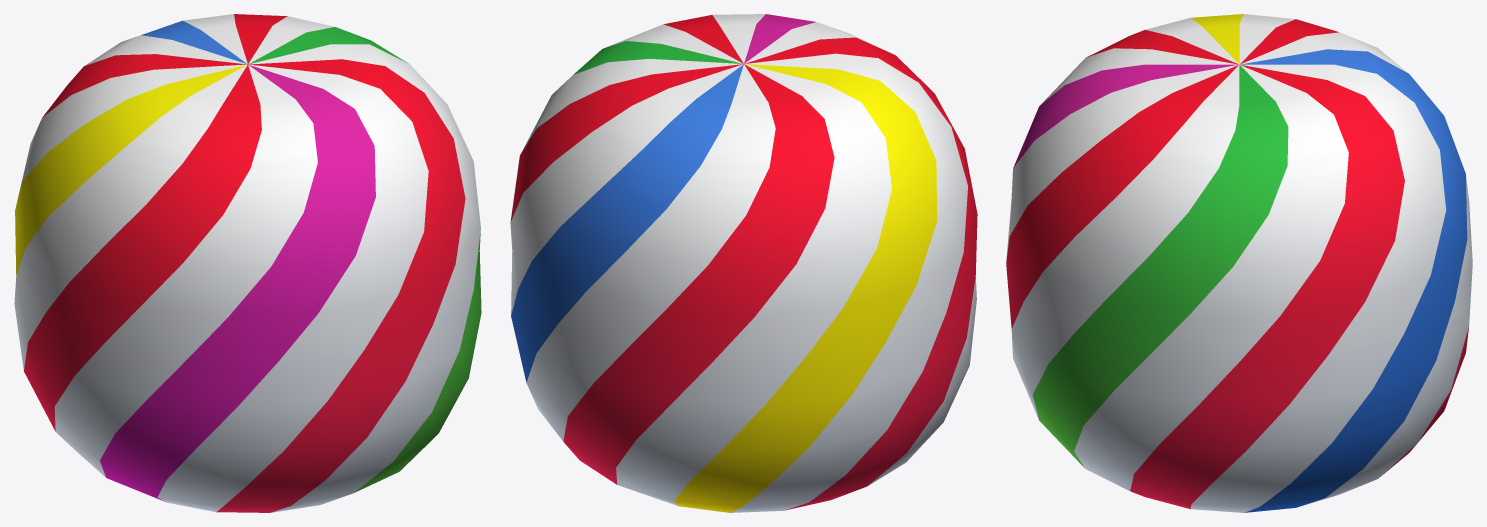
The model's file is lollipop_004.glb.
3 renders of one model, left to right at view 1: azimuth 30°, elevation 25°; view 2: azimuth 150°, elevation 25°; view 3: azimuth 270°, elevation 25°, orthographic.
Parts seen in each view (by area): view 1: lollipop_004; view 2: lollipop_004; view 3: lollipop_004.
Boxes of the visible parts, x1,y1,x2,y2 form: lollipop_004: (14, 14, 481, 512); lollipop_004: (510, 14, 977, 512); lollipop_004: (1006, 14, 1472, 512).
Bounding box in the file's own units: 1.76 × 1.66 × 1.76.
Materials: 1 (1 with a texture image).
